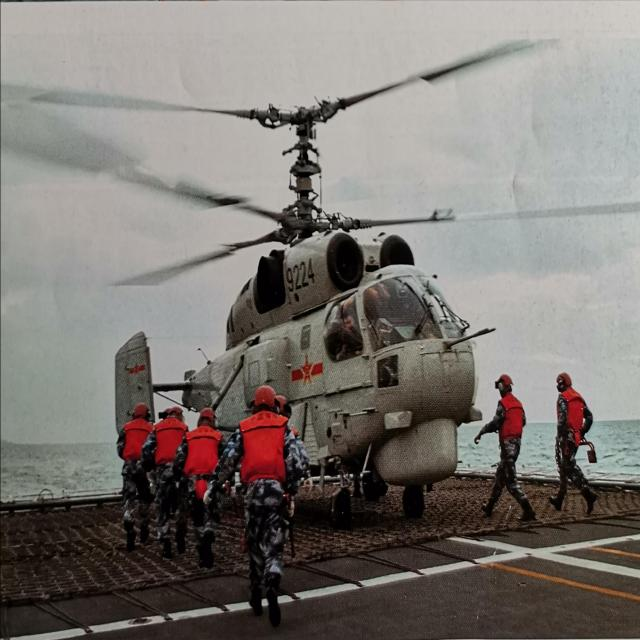MIL_HELO: (31, 31, 640, 520)
